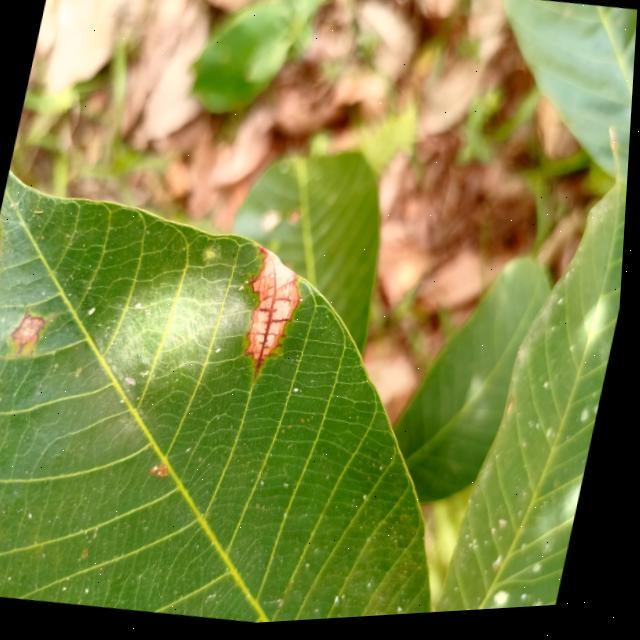Corynespora: (252, 285, 304, 383)
Leaf-Blight: (18, 314, 47, 346)
